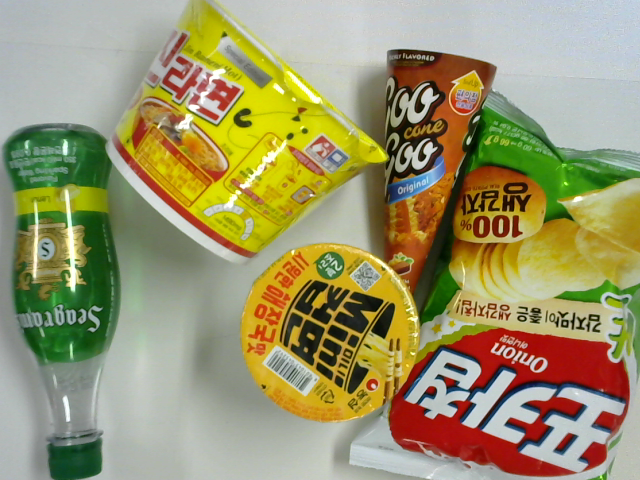GooGoo_Cone_CVS: (385, 50, 499, 309)
Hejangmini: (240, 243, 416, 427)
Jinlamyeon_Hot_Taste_Large_Cup: (106, 1, 392, 267)
Pocachip_Onion: (348, 90, 640, 471)
Seagram_Lemon_Carbonated_Water: (3, 124, 123, 480)
